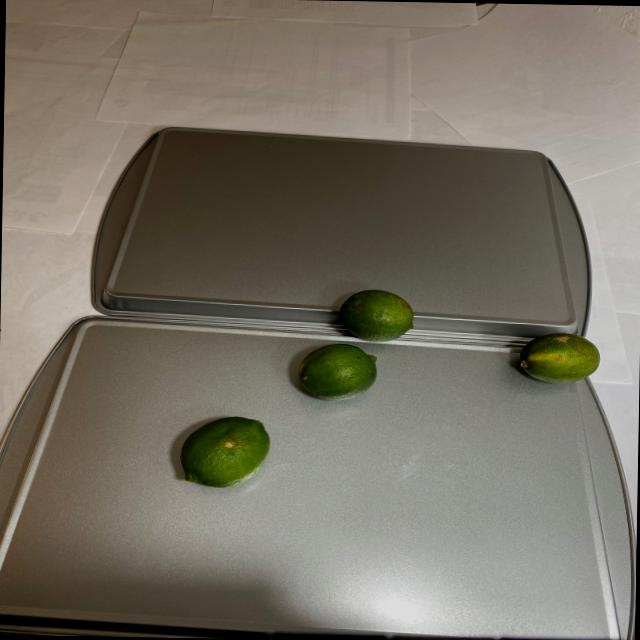lemon: (298, 286, 420, 402), (174, 414, 270, 500), (521, 330, 603, 385)
